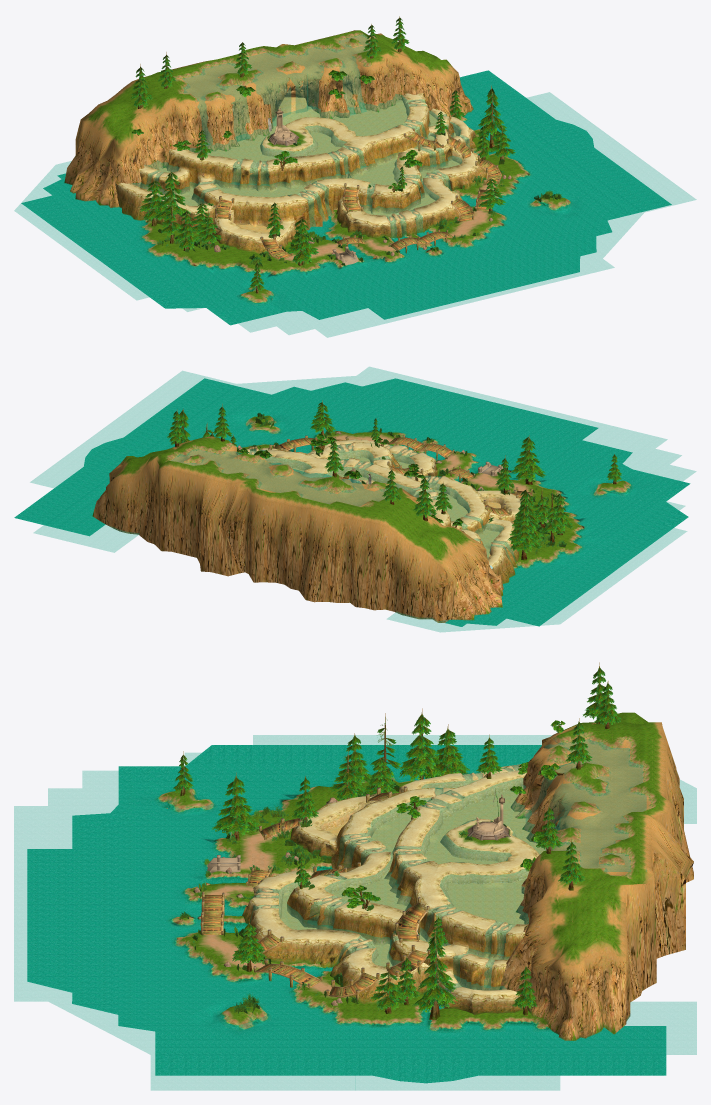
The model's file is newScene.FBX.
3 views of the same model, one above another, from view 1: azimuth 30°, elevation 25°; view 2: azimuth 150°, elevation 25°; view 3: azimuth 270°, elevation 25° (orthographic). The views are drawn at different scales.
Parts seen in each view (by area): view 1: ground, water05, tree, water01, water03, bridge, water04, water02, grass, stele; view 2: ground, water05, tree, water03, water01, bridge, grass, water02; view 3: ground, water05, tree, water01, water03, bridge, water02, grass, stele.
Part boxes in pixels (bbox=[...]): ground: bbox=[21, 30, 671, 325]; water05: bbox=[14, 72, 696, 337]; tree: bbox=[130, 16, 515, 293]; water01: bbox=[132, 94, 461, 214]; water03: bbox=[182, 34, 370, 108]; bridge: bbox=[215, 128, 501, 259]; water04: bbox=[199, 66, 365, 145]; water02: bbox=[144, 99, 469, 238]; grass: bbox=[157, 132, 561, 266]; stele: bbox=[268, 108, 299, 146]; ground: bbox=[14, 378, 690, 626]; water05: bbox=[19, 367, 695, 632]; tree: bbox=[167, 400, 621, 560]; water03: bbox=[171, 449, 387, 506]; water01: bbox=[264, 450, 503, 557]; bridge: bbox=[238, 435, 532, 515]; grass: bbox=[252, 413, 566, 554]; water02: bbox=[250, 443, 515, 562]; ground: bbox=[27, 712, 693, 1083]; water05: bbox=[14, 735, 696, 1090]; tree: bbox=[172, 662, 620, 1020]; water01: bbox=[278, 778, 545, 989]; water03: bbox=[545, 739, 646, 871]; bridge: bbox=[200, 786, 430, 1001]; water02: bbox=[250, 765, 519, 1007]; grass: bbox=[179, 779, 506, 1014]; stele: bbox=[467, 788, 510, 840].
Bounding box in the file's own units: 9655 × 2235 × 7839.
